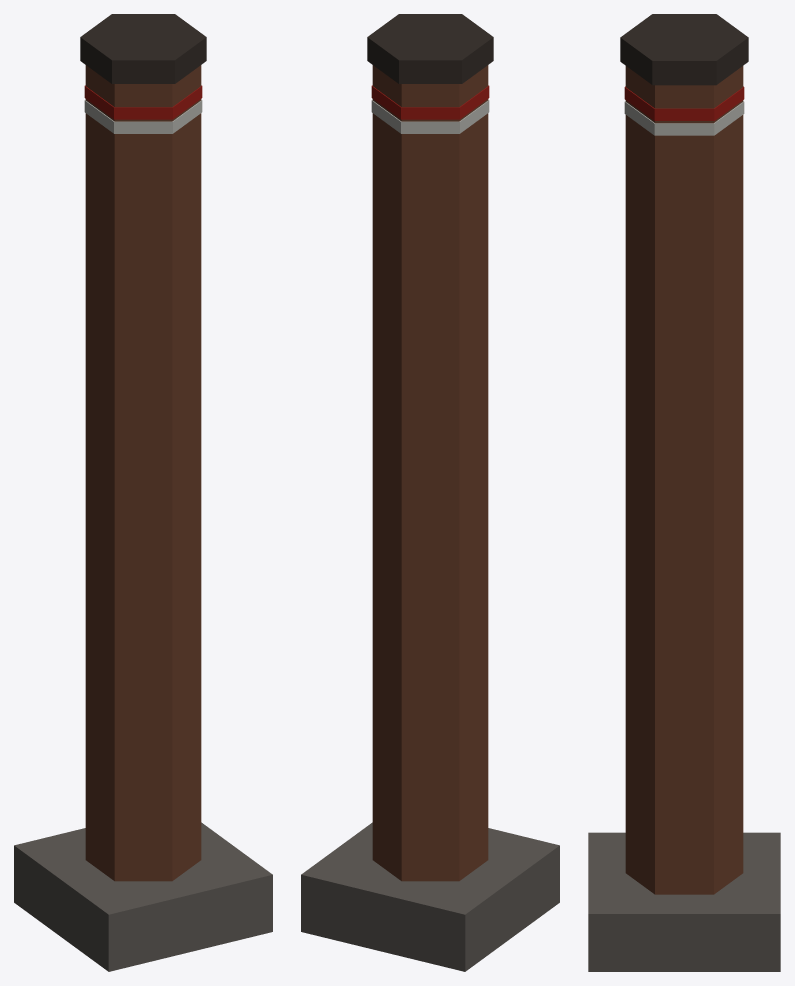
File: bg_industrial_chimney_1_lod2.glb
3 views of the same model, side by side, from view 1: azimuth 30°, elevation 25°; view 2: azimuth 150°, elevation 25°; view 3: azimuth 270°, elevation 25° (orthographic).
Visible parts, largest first — view 1: body; view 2: body; view 3: body.
Part boxes in pixels (bbox=[...]): body: bbox=[14, 14, 272, 971]; body: bbox=[301, 14, 559, 971]; body: bbox=[588, 14, 780, 971].
Size of the model in its own units: 3.6 by 18.45 by 3.6.
